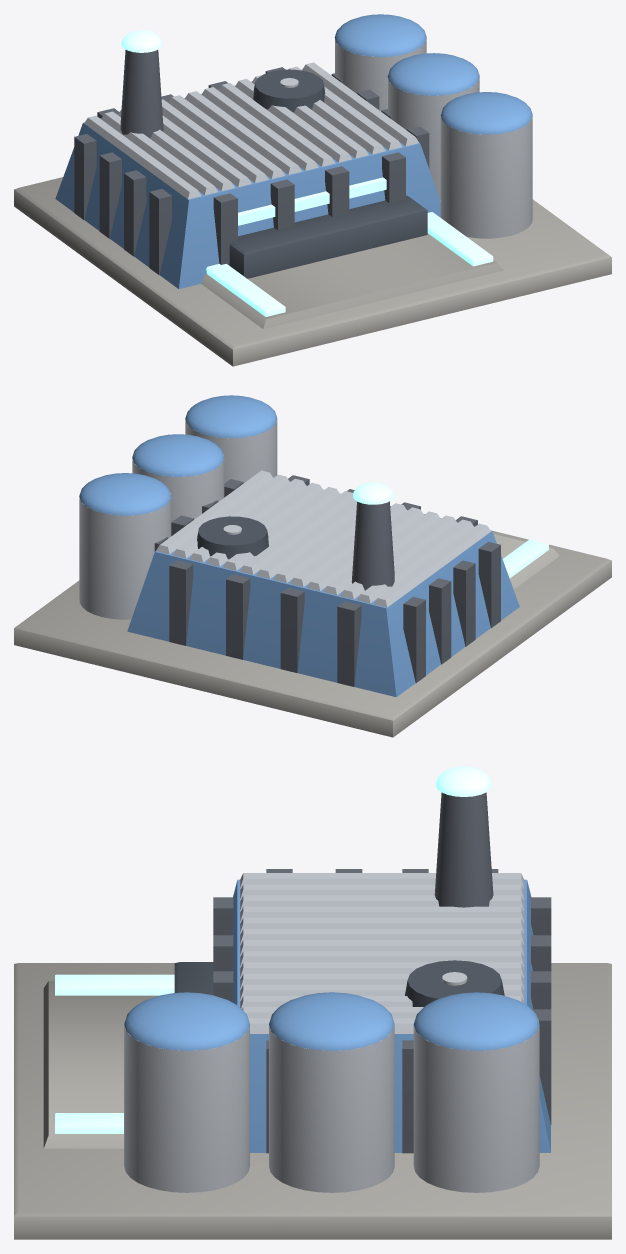
The model's file is proc.glb.
3 views of the same model, one above another, from view 1: azimuth 30°, elevation 25°; view 2: azimuth 150°, elevation 25°; view 3: azimuth 270°, elevation 25° (orthographic). The views are drawn at different scales.
Parts seen in each view (by area): view 1: Hull; view 2: Hull; view 3: Hull.
Boxes of the visible parts, x1,y1,x2,y2 form: Hull: (14,14,611,366); Hull: (14,395,611,737); Hull: (14,766,611,1239).
Bounding box in the file's own units: 5.13 × 2.52 × 5.13.
